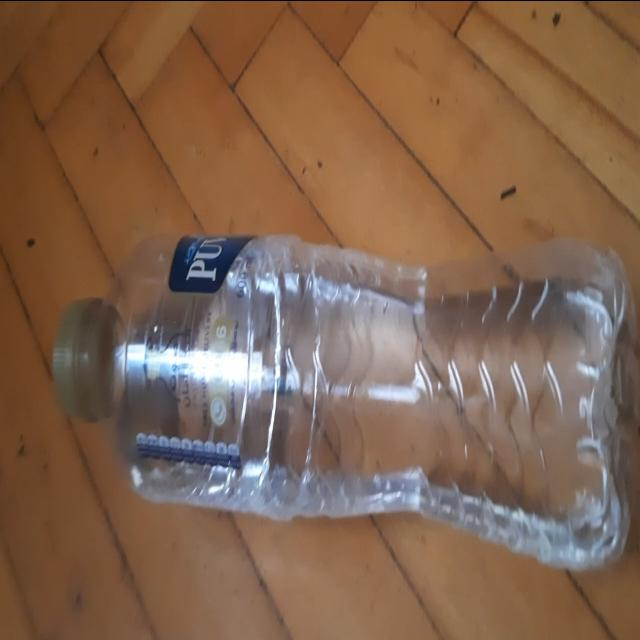Plastic: (52, 234, 640, 572)
